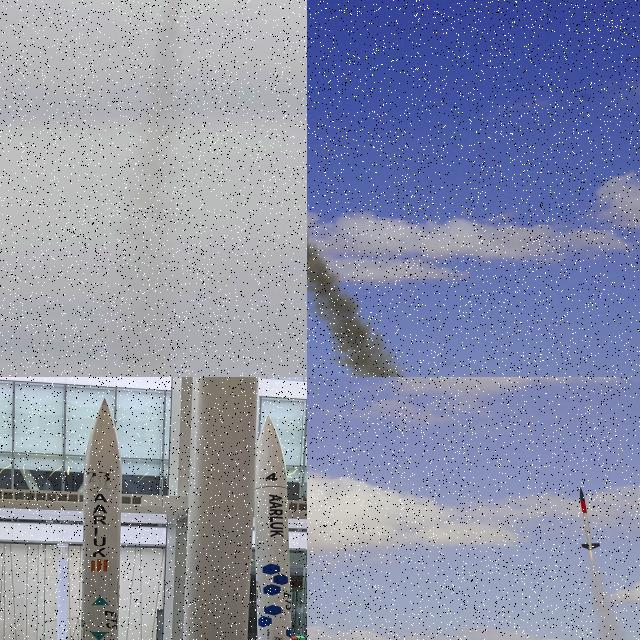Rocket: (80, 397, 121, 640), (255, 414, 293, 640), (579, 487, 601, 551)
